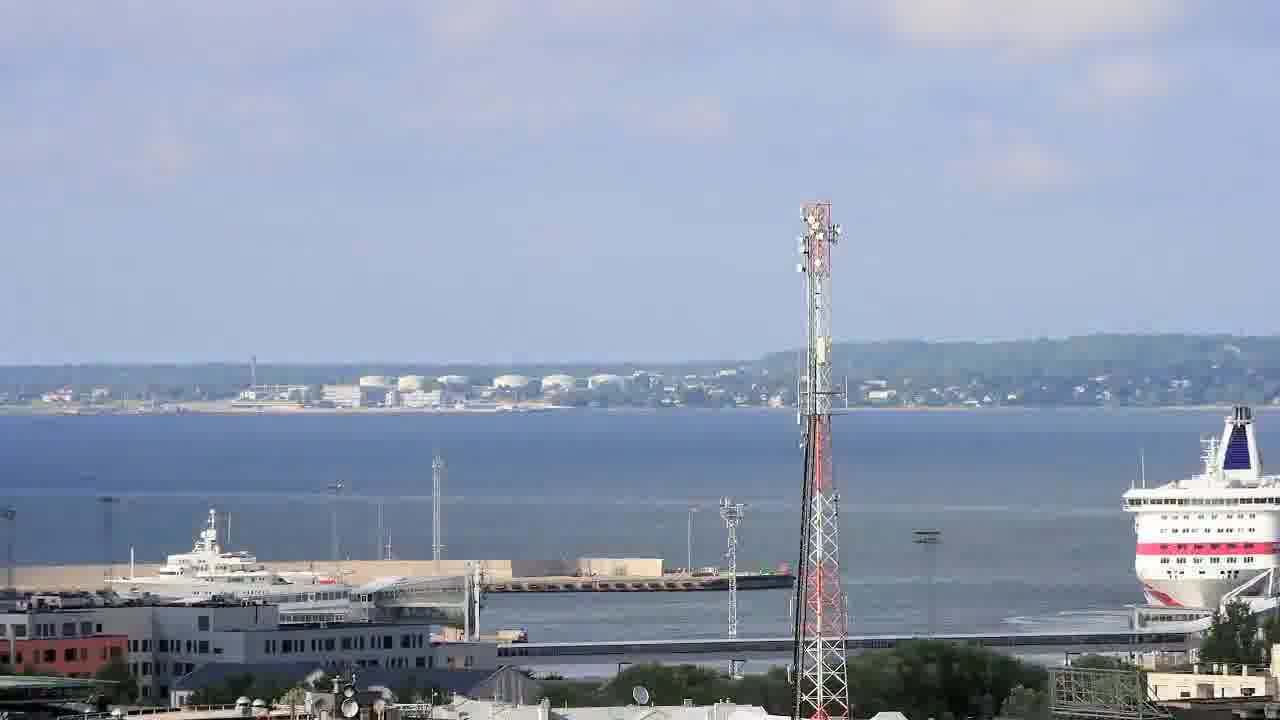type-3: (1113, 385, 1280, 638), (89, 518, 402, 620)
